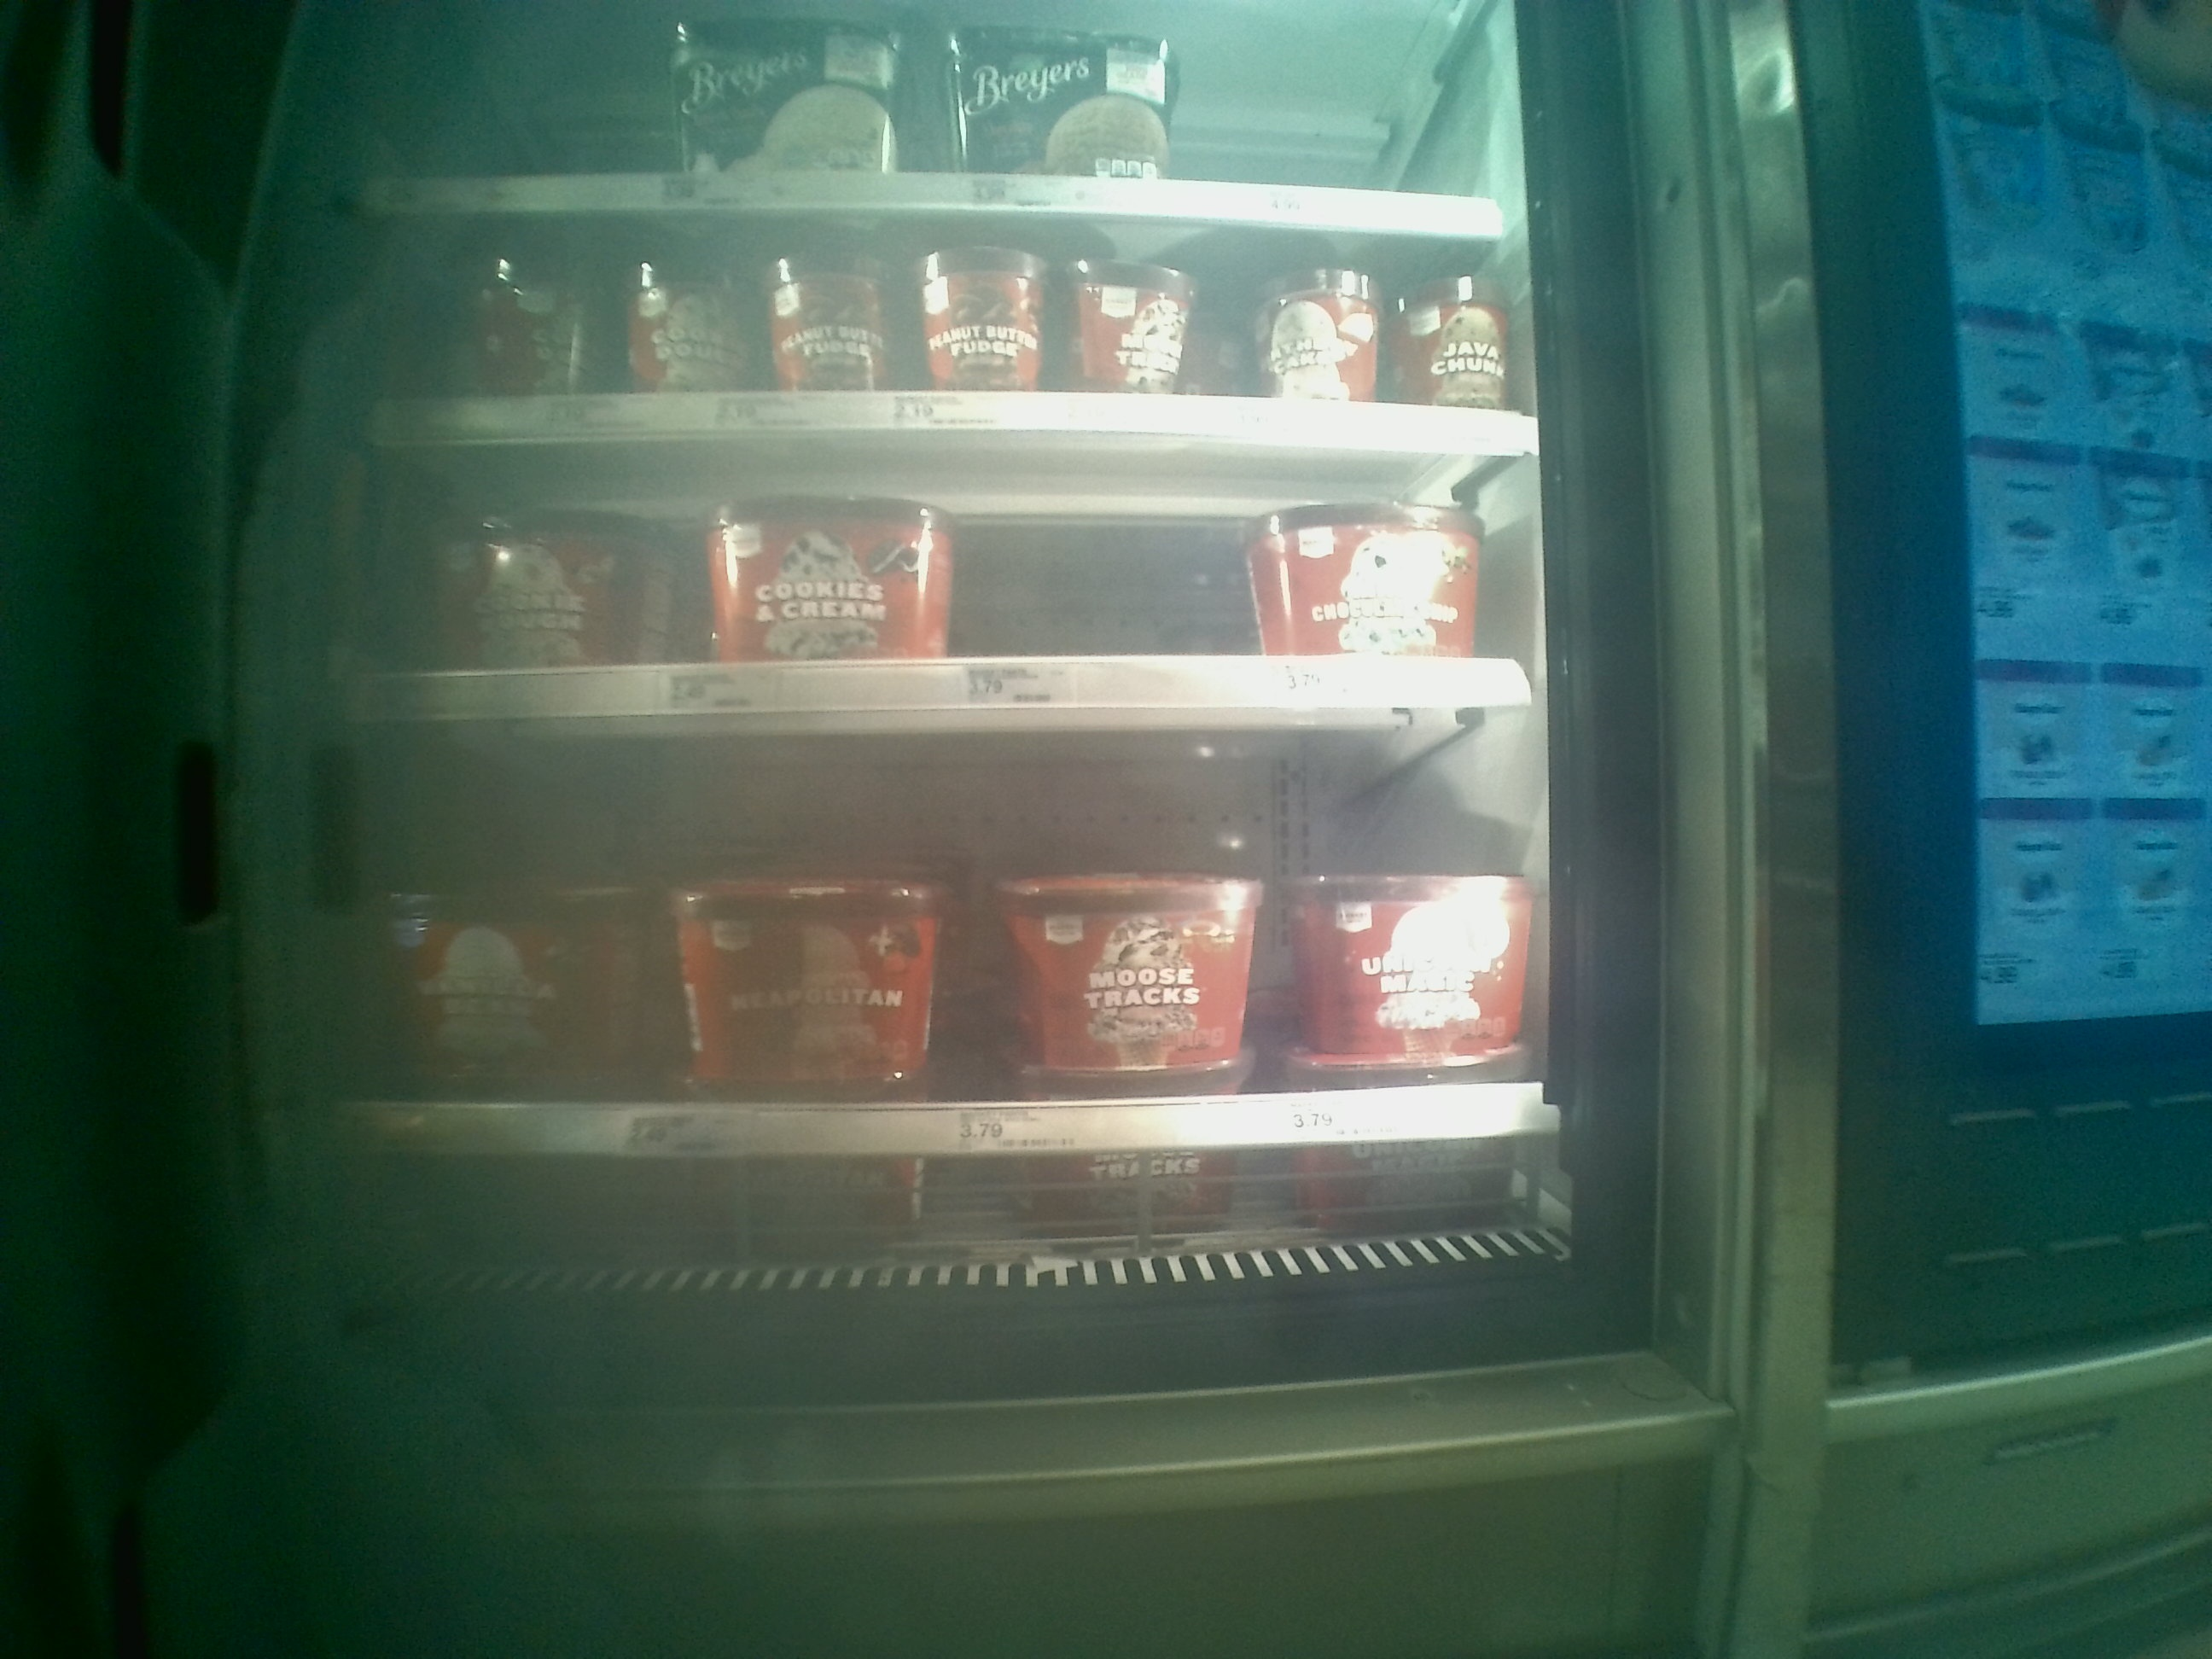shelf: (341, 744, 1561, 1152), (352, 211, 1541, 465), (348, 474, 1533, 727)
